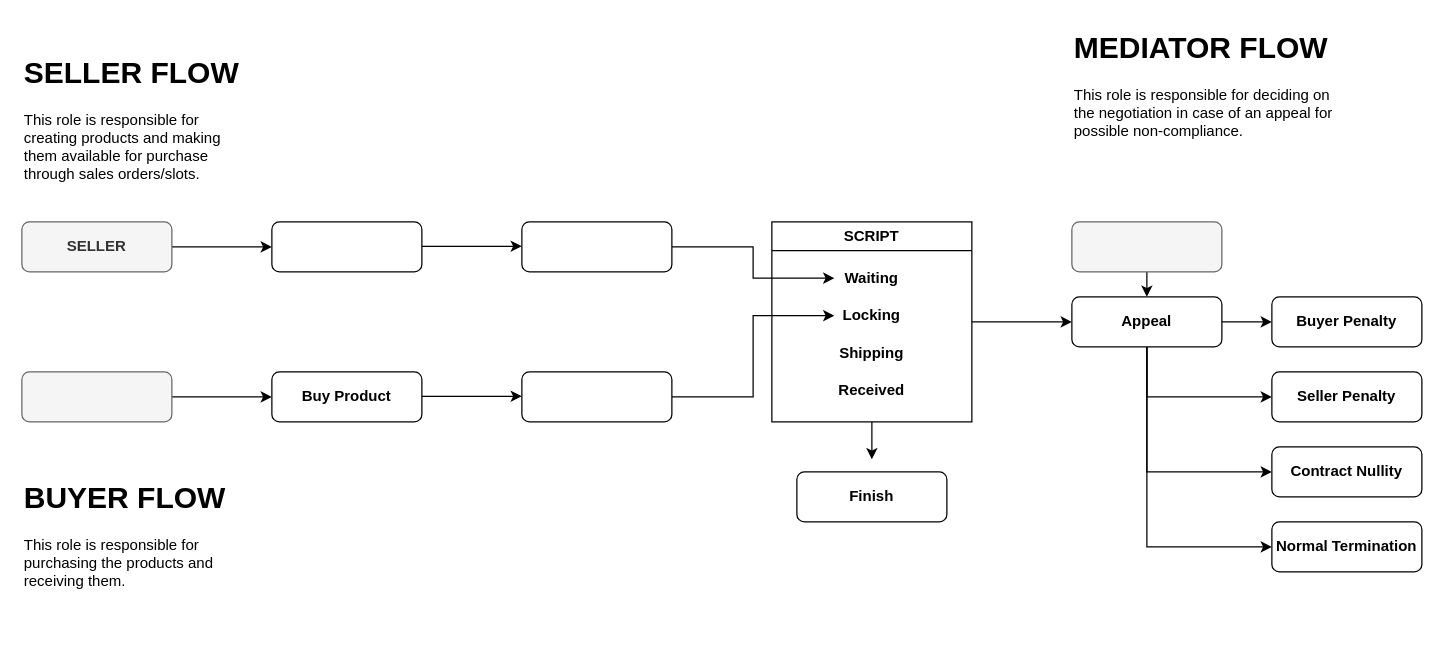
This 1444x646 diagram has some shape labels left out. Here are the shapes that lost their labels. From the top down, the centre of each, then its label:
At pixel 346 246: "Create Product".
At pixel 596 246: "Create Sell Order".
At pixel 1146 246: "MEDIATOR".
At pixel 96 396: "BUYER".
At pixel 596 396: "Order Locked".
